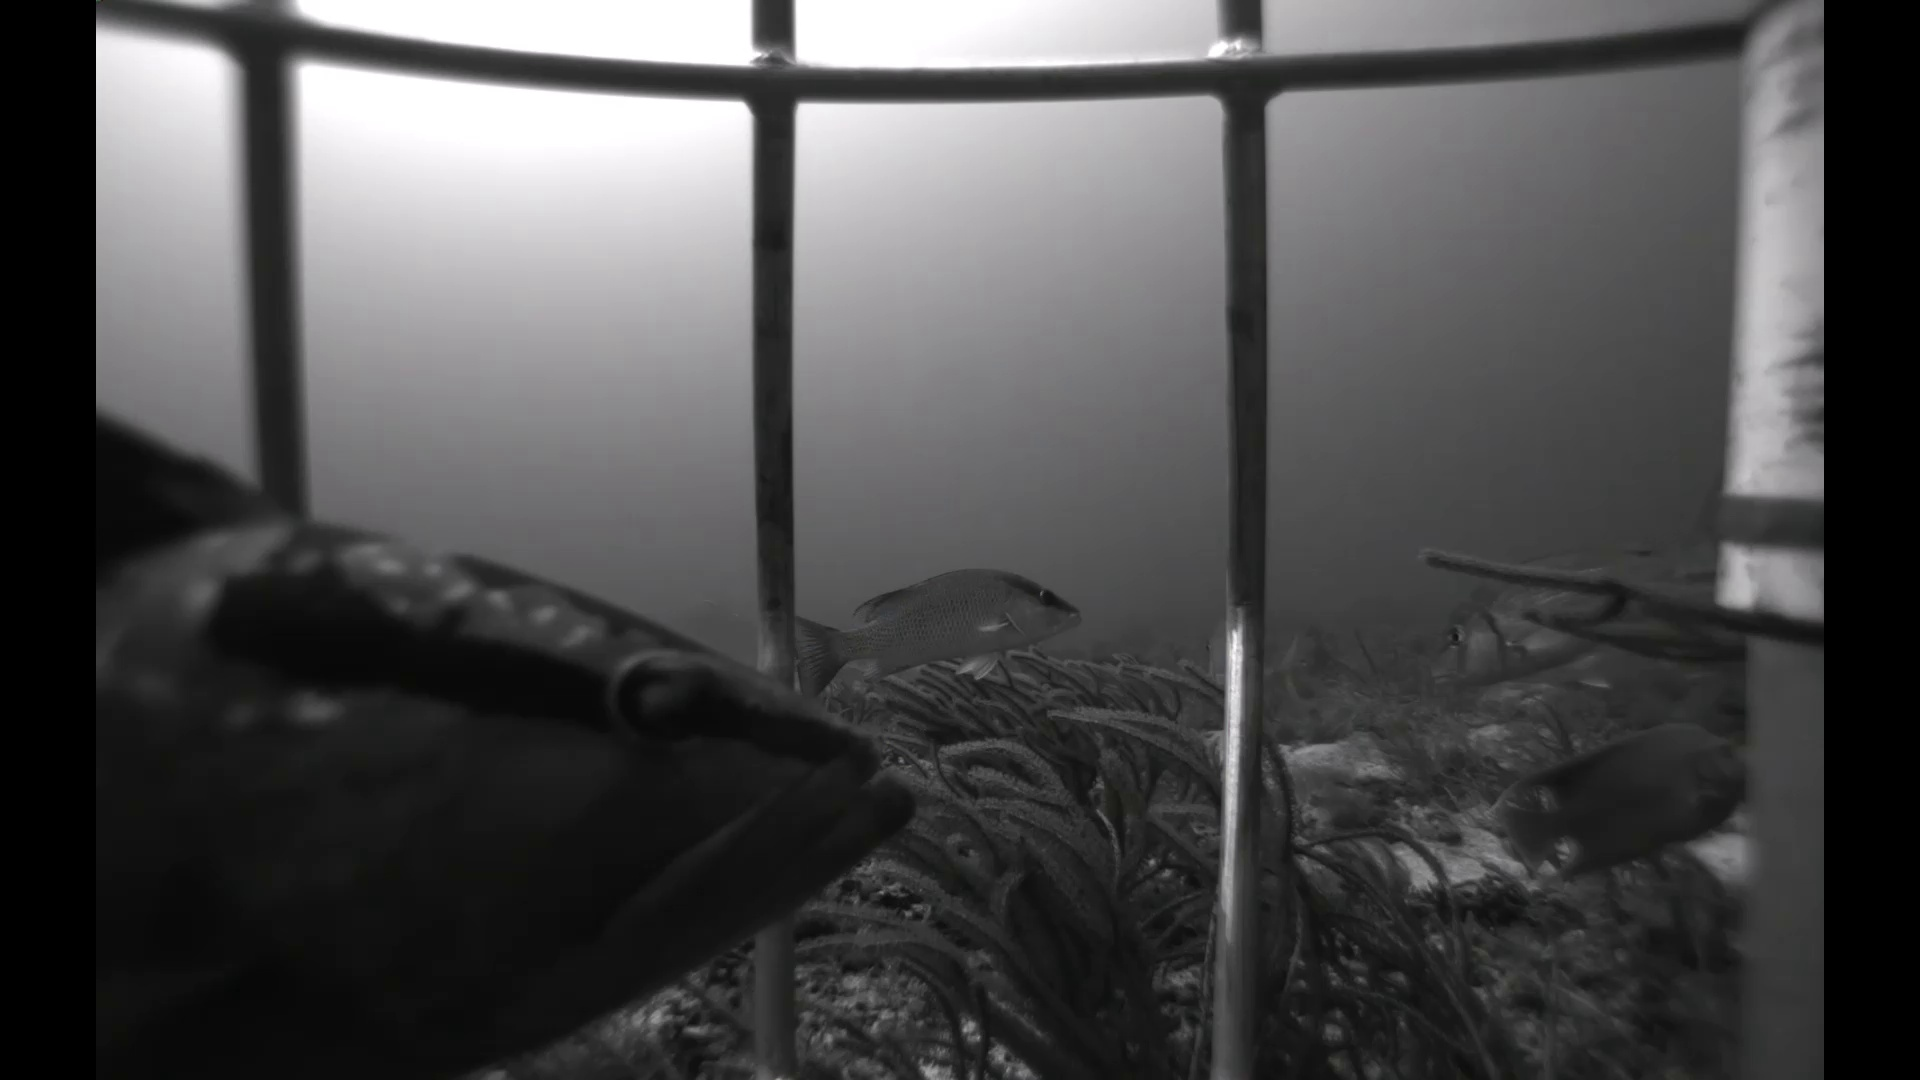CALAMUSNODOSUS-170210608: (1193, 605, 1308, 708)
EPINEPHELUSMORIO-170021211: (86, 385, 957, 1059)
HOLACANTHUSBERMUDENSIS-170290102: (1484, 721, 1751, 909)
LUTJANUSGRISEUS-170151109: (778, 547, 1084, 728), (1495, 628, 1664, 700)
PAGRUSPAGRUS-170212302: (1411, 521, 1716, 707)
